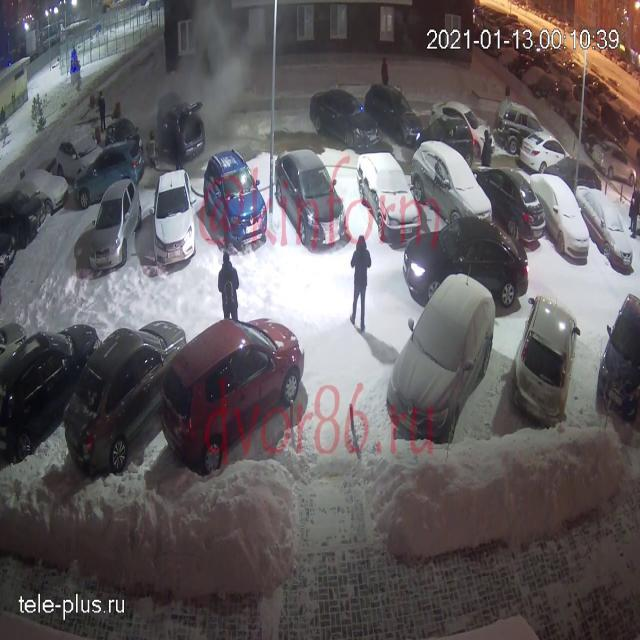Smoke: (178, 0, 262, 146)
